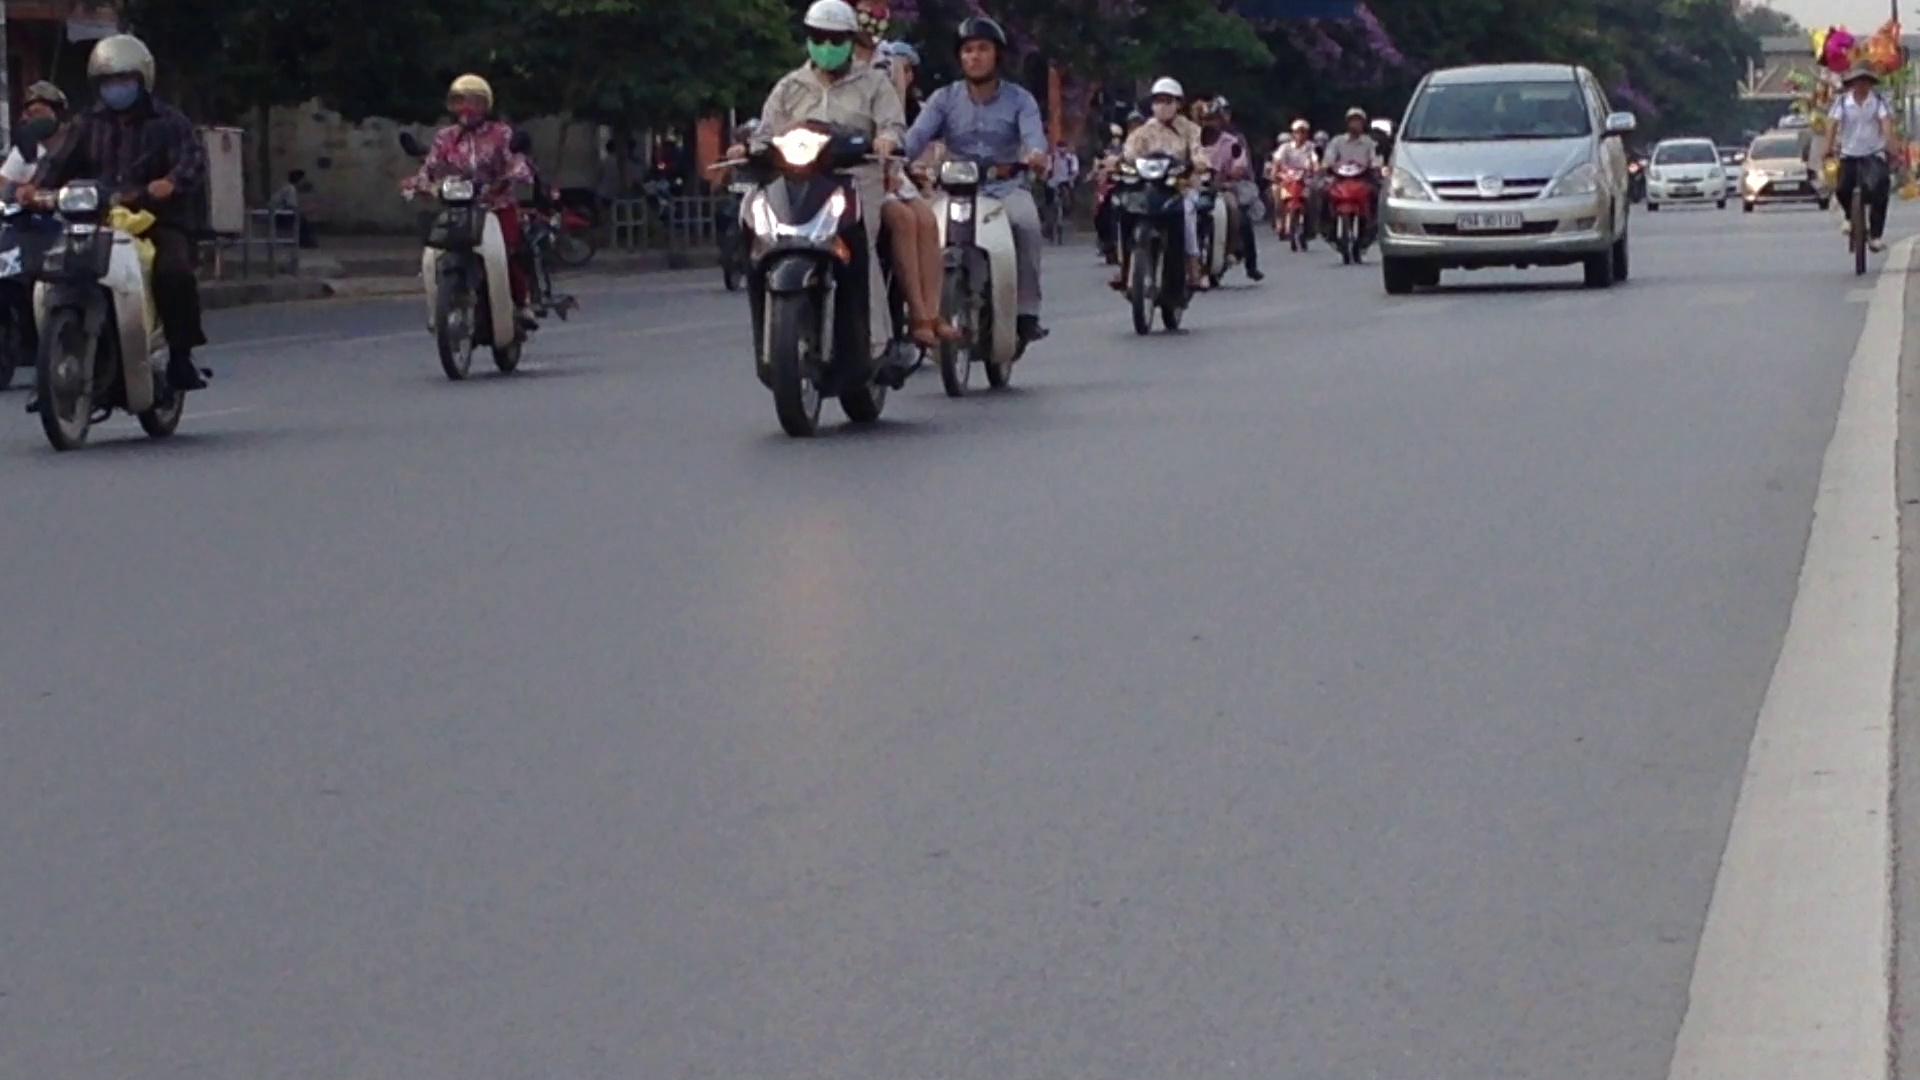vehicle-plate: (1454, 209, 1528, 235)
